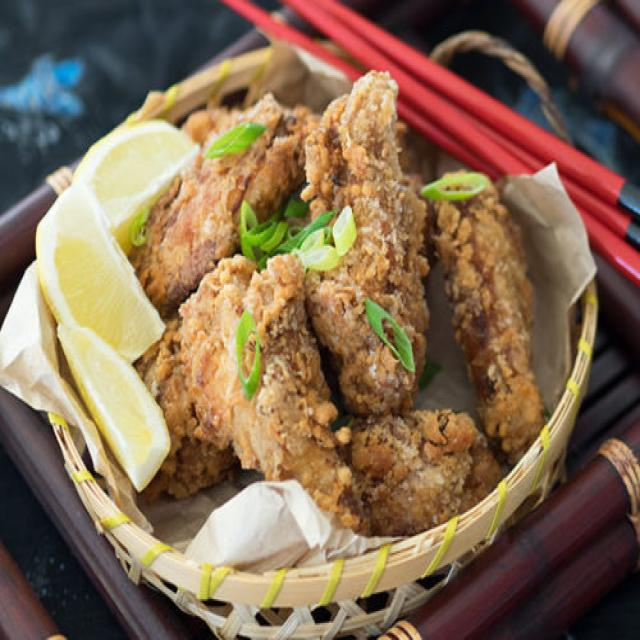Frango: (139, 63, 548, 536)
